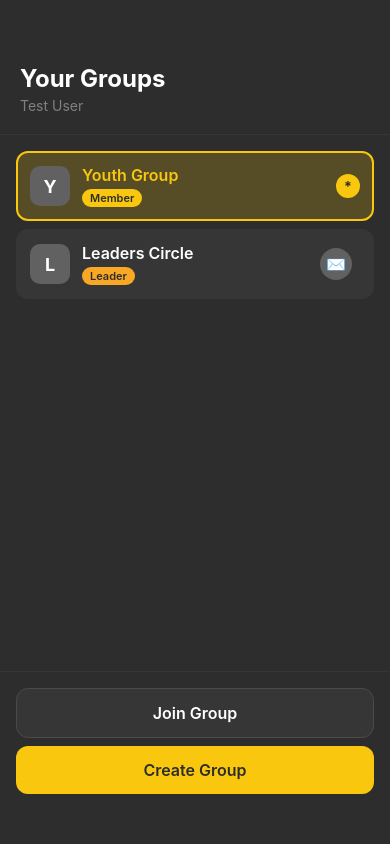
Test: GroupSidebar › Create Group › should open create modal when button is pressed
Click the text "Create Group" at x=195, y=770, box [144,760,247,780]
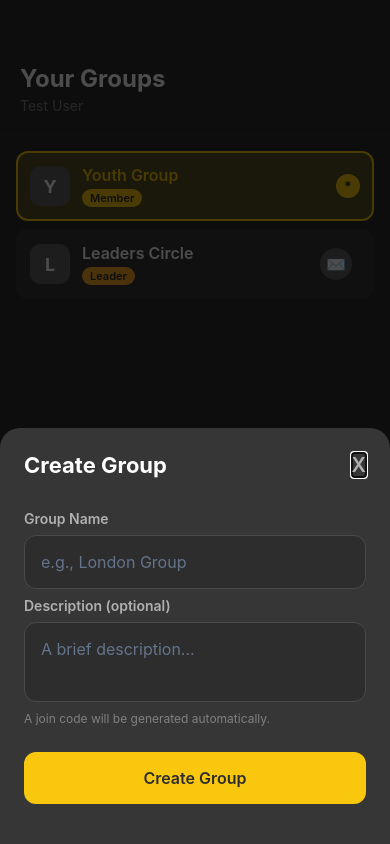
Expected: the text "Group Name" is shown, [24,510,109,527]
Expected: the field with placeholder "e.g., London Group" is shown, [24,535,366,589]
